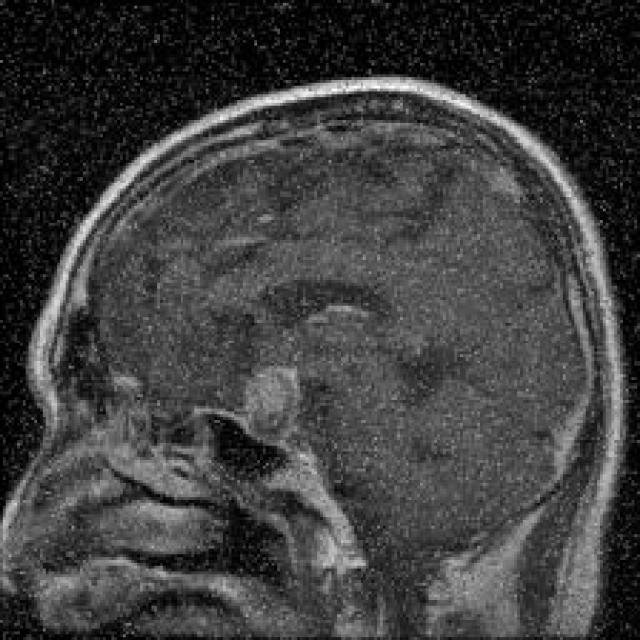pituitary_tumor: (225, 348, 316, 454)
